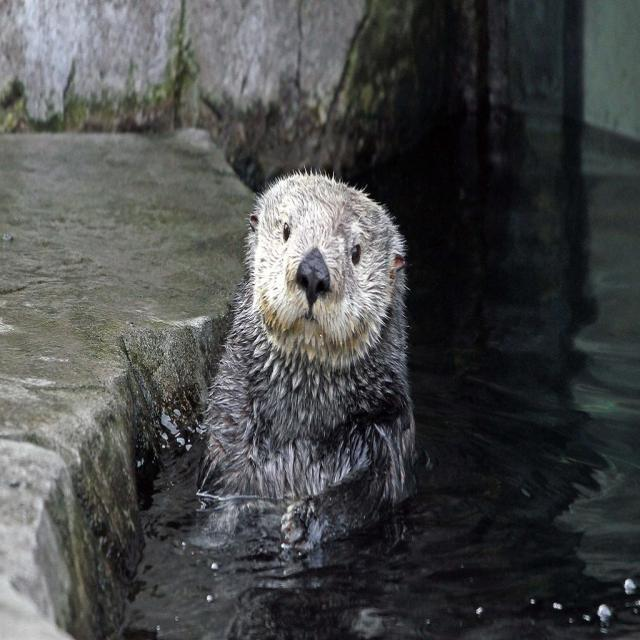otter: (208, 175, 409, 504)
